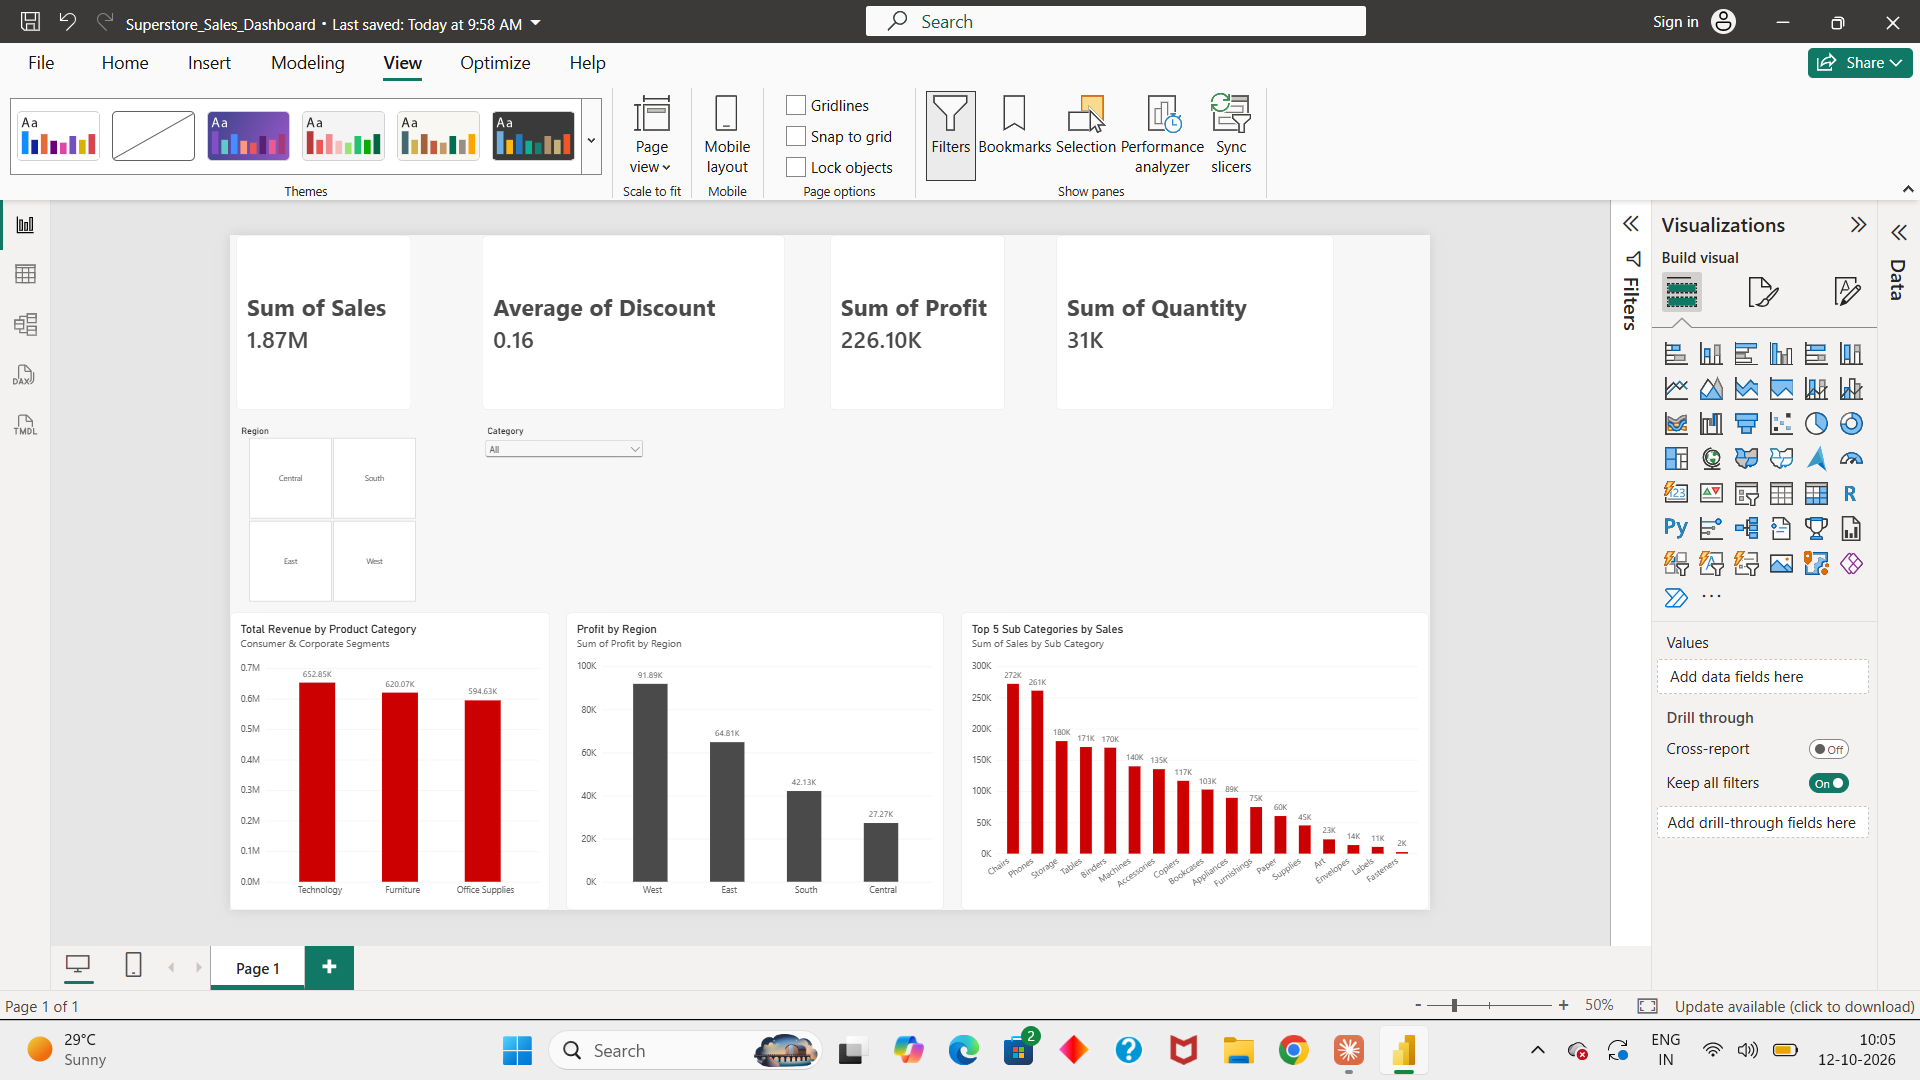

Layout of this report page (visuals, bound fields, positions):
{"tool":"powerbi","page":{"name":"Sales Dashboard","canvas":[1920,1080],"ordinal":0},"visuals":[{"type":"cardVisual","fields":{"Data":["Sum(superstore_sales_dataset.Sales)"]},"box":[454.2,0,383.6,240.7],"z":0},{"type":"cardVisual","fields":{"Data":["Sum(superstore_sales_dataset.Profit)"]},"box":[1248.7,1.8,336.6,240.7],"z":1},{"type":"cardVisual","fields":{"Data":["Sum(superstore_sales_dataset.Quantity)"]},"box":[1585.3,0,334.8,240.7],"z":2},{"type":"cardVisual","fields":{"Data":["Avg(superstore_sales_dataset.Discount)"]},"box":[837.9,0,410.8,240.7],"z":3},{"type":"clusteredColumnChart","title":"Total Revenue by Product Category","fields":{"Category":["superstore_sales_dataset.Category"],"Y":["Sum(superstore_sales_dataset.Sales)"]},"box":[602.6,568.2,646,512.1],"z":4},{"type":"clusteredColumnChart","title":"Profit by Region","fields":{"Category":["superstore_sales_dataset.Region"],"Y":["Sum(superstore_sales_dataset.Profit)"]},"box":[0,568.2,602.6,512.1],"z":5},{"type":"clusteredColumnChart","title":"Top 5 Sub Categories by Sales","fields":{"Category":["superstore_sales_dataset.Sub Category"],"Y":["Sum(superstore_sales_dataset.Sales)"]},"box":[1248.7,242.5,671.4,837.9],"z":6},{"type":"slicer","fields":{"Values":["superstore_sales_dataset.Region"]},"box":[475.9,240.7,483.2,327.5],"z":7},{"type":"slicer","fields":{"Values":["superstore_sales_dataset.Category"]},"box":[939.2,240.7,309.5,327.5],"z":8},{"type":"image","box":[0,0,432,240],"z":9},{"type":"shape","box":[0,216,456,24],"z":10},{"type":"shape","box":[432,0,24,240],"z":11},{"type":"shape","box":[0,256,480,304],"z":15},{"type":"textbox","box":[0,256,480,304],"z":16},{"type":"image","box":[0,256,80,80],"z":17}]}

Visuals, with their boxes on the page's 1920x1080 design canvas (x1, y1, x2, y2). These are canvas units, not pixel positions in the 1920x1080 screenshot, which may show the page scaled, cropped or inside an application window:
cardVisual - Sum(superstore_sales_dataset.Sales): detection(454, 0, 838, 241)
cardVisual - Sum(superstore_sales_dataset.Profit): detection(1249, 2, 1585, 242)
cardVisual - Sum(superstore_sales_dataset.Quantity): detection(1585, 0, 1920, 241)
cardVisual - Avg(superstore_sales_dataset.Discount): detection(838, 0, 1249, 241)
"Total Revenue by Product Category" clusteredColumnChart: detection(603, 568, 1249, 1080)
"Profit by Region" clusteredColumnChart: detection(0, 568, 603, 1080)
"Top 5 Sub Categories by Sales" clusteredColumnChart: detection(1249, 242, 1920, 1080)
slicer - superstore_sales_dataset.Region: detection(476, 241, 959, 568)
slicer - superstore_sales_dataset.Category: detection(939, 241, 1249, 568)
image: detection(0, 0, 432, 240)
shape: detection(0, 216, 456, 240)
shape: detection(432, 0, 456, 240)
shape: detection(0, 256, 480, 560)
textbox: detection(0, 256, 480, 560)
image: detection(0, 256, 80, 336)
